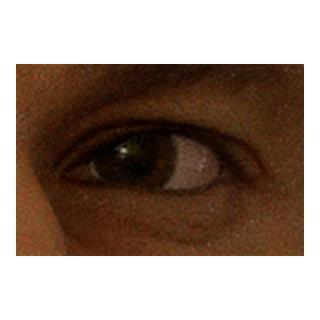pupil: (120, 141, 151, 171)
